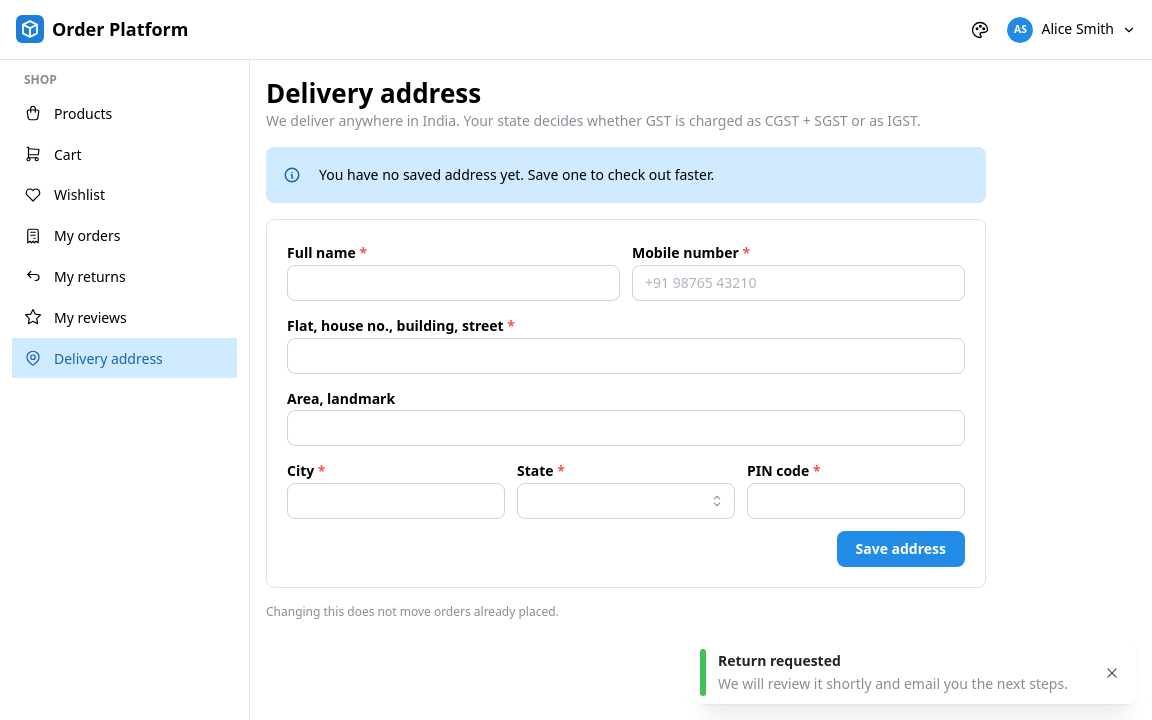
it: address › saves a new default address after checking the PIN code
Later steps or results of the test are not shown.
Type "Alice Smith" into the field labelled "Full name *" at (454, 283), box [287,265,620,301]
Type "+91 98450 00101" into the field labelled "Mobile number *" at (798, 283), box [632,265,965,301]
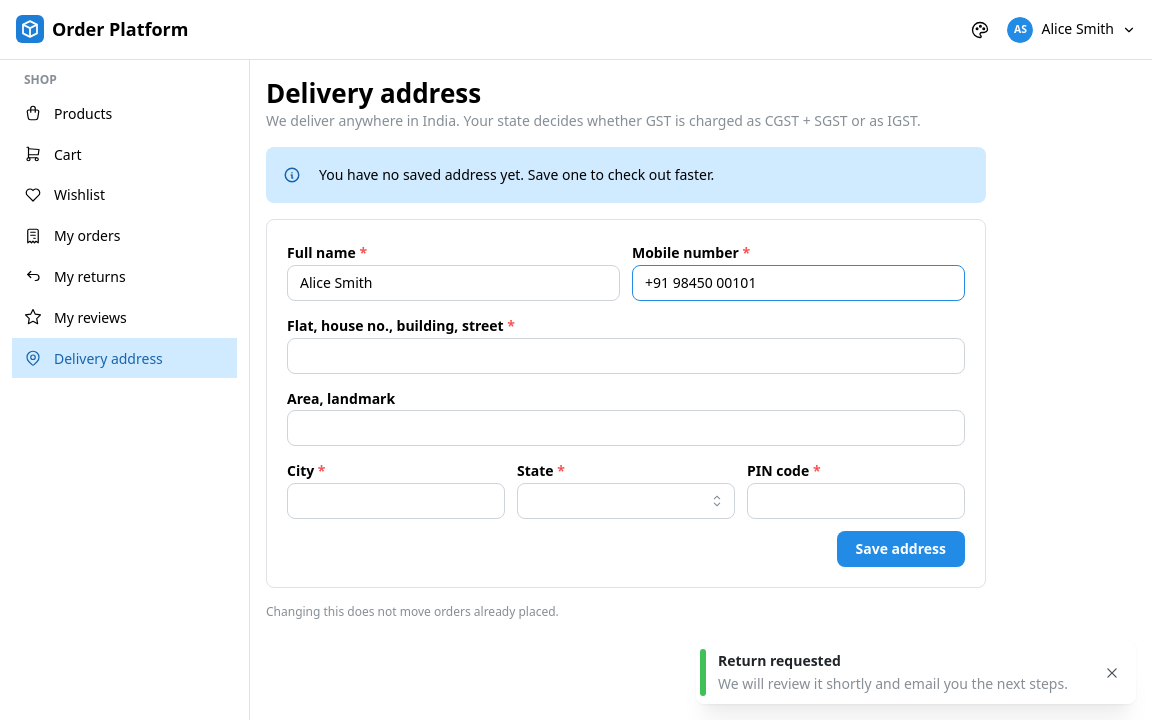
Type "12, 4th Cross" into the field labelled "Flat, house no., building, street *" at (626, 356), box [287,338,965,374]
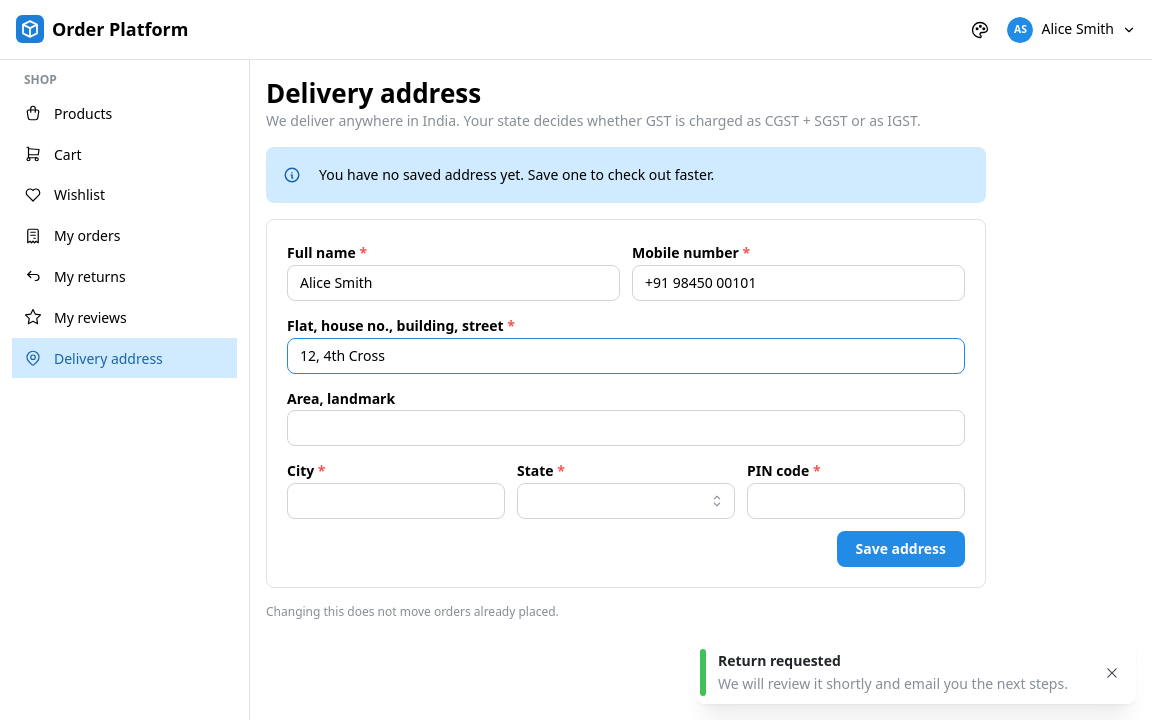
Type "Bengaluru" into the field labelled "City *" at (396, 501), box [287,483,505,519]
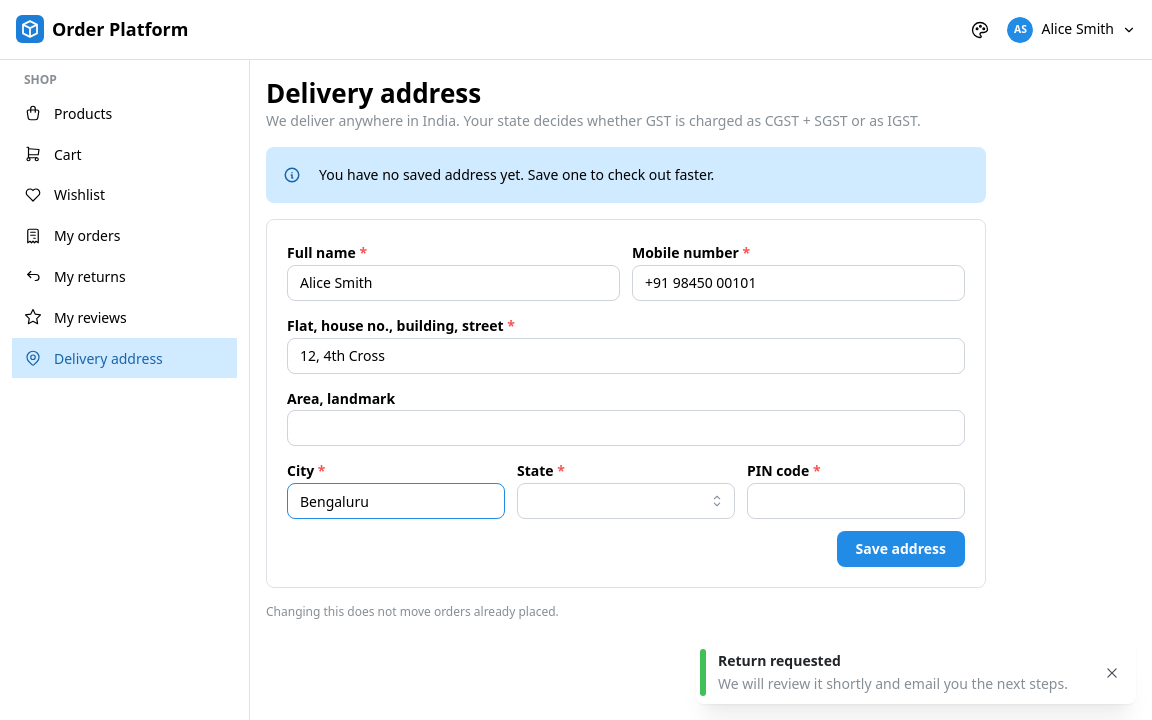
Click the dropdown labelled "State *" at (626, 501), box [517,483,735,519]
(page scrolled)
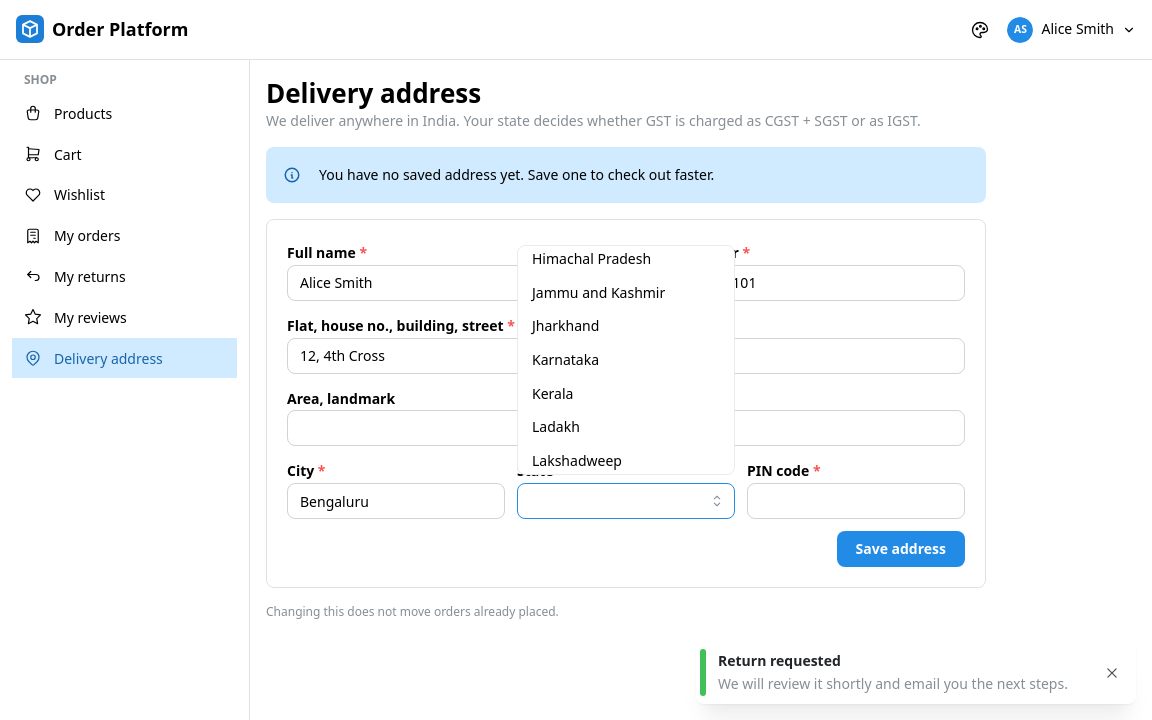
Click the option "Karnataka" at (566, 360), box [532,350,599,369]
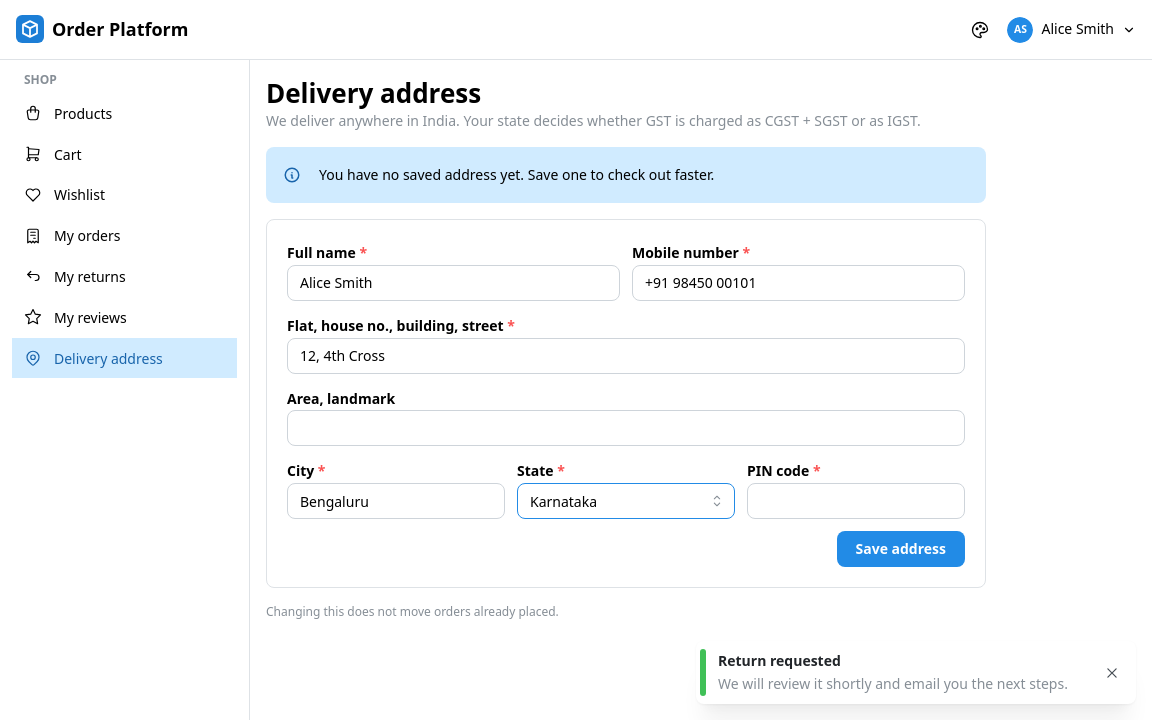
Type "56003" into the field labelled "PIN code *" at (856, 501), box [747,483,965,519]
Click the button "Save address" at (901, 549), box [836,531,965,567]
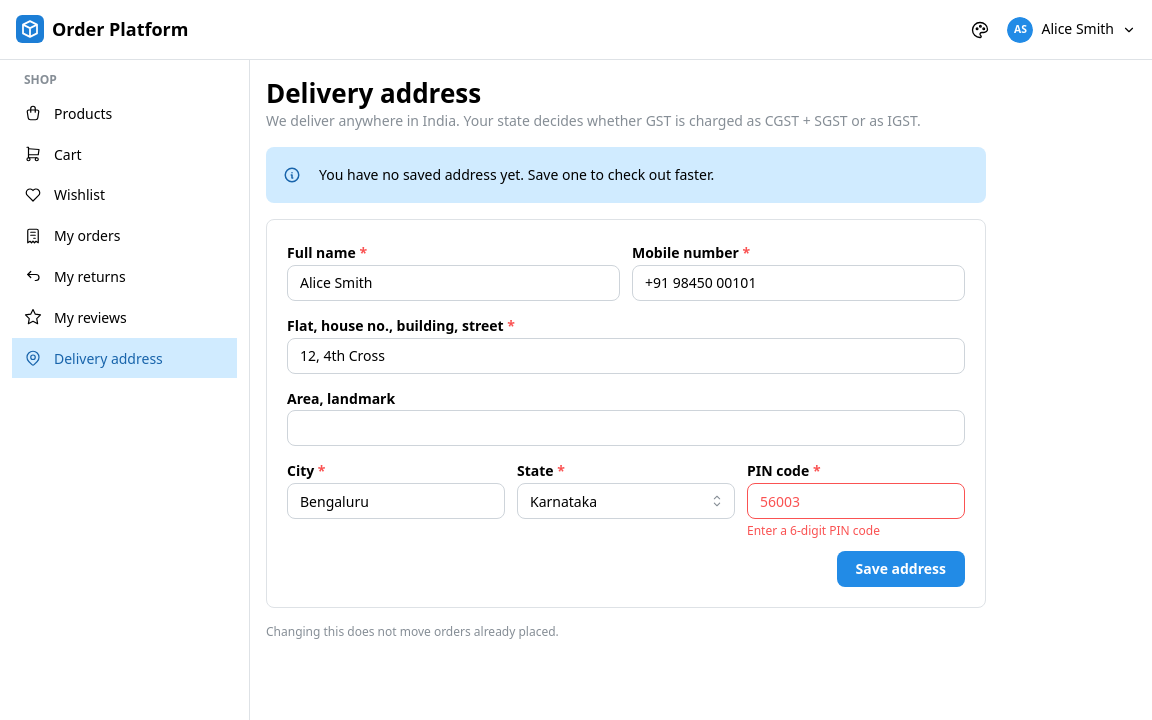
Check: the text "Enter a 6-digit PIN code" is shown, box [747,522,880,539]
